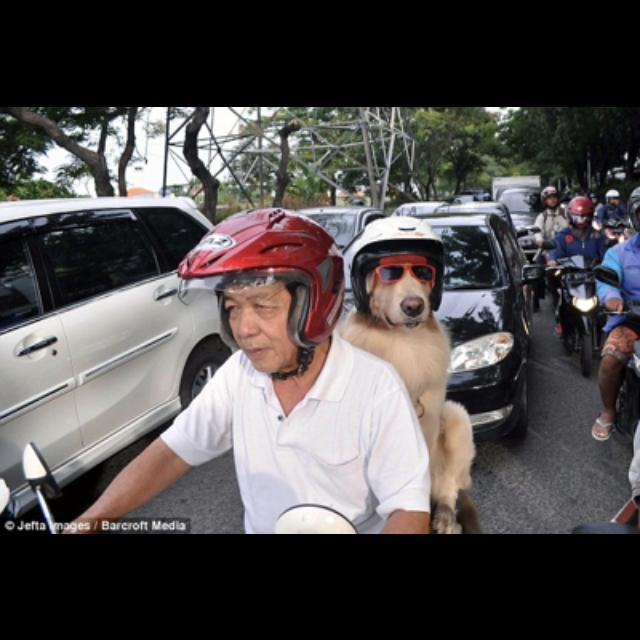With Helmet: (178, 191, 350, 377)
